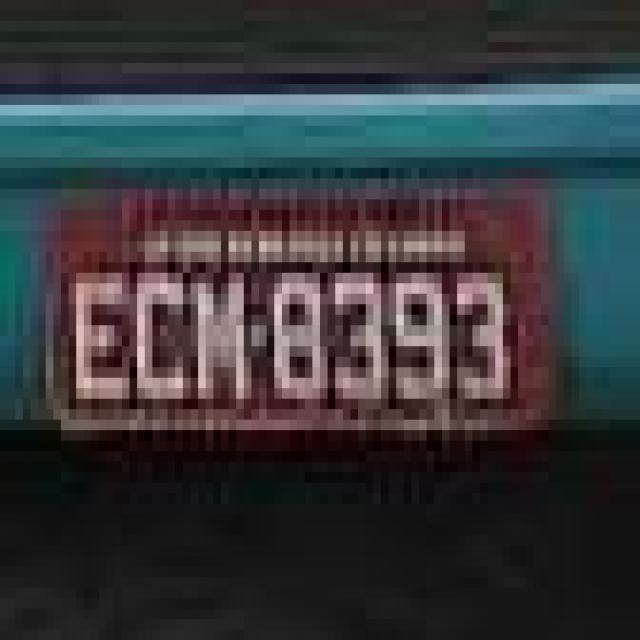3: (331, 260, 393, 422), (456, 258, 516, 418)
8: (268, 261, 326, 414)
9: (391, 260, 453, 417)
C: (132, 259, 191, 412)
E: (72, 260, 132, 418)
M: (188, 254, 258, 412)
